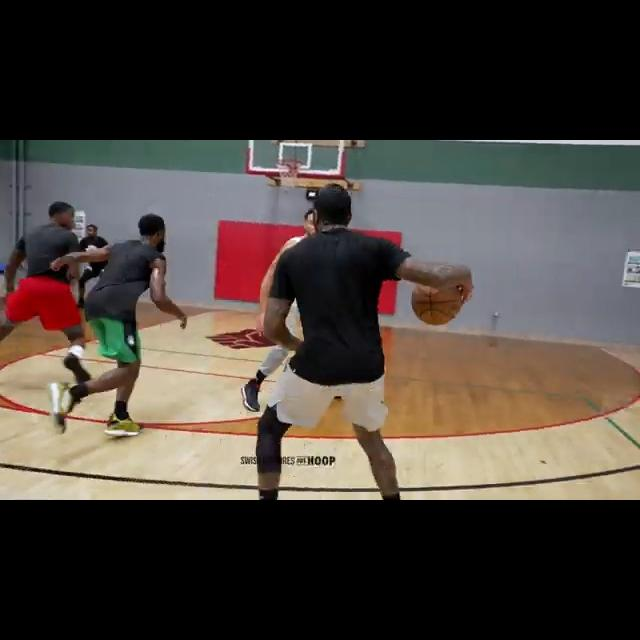basketball: (412, 281, 461, 327)
hoop: (275, 160, 303, 191)
